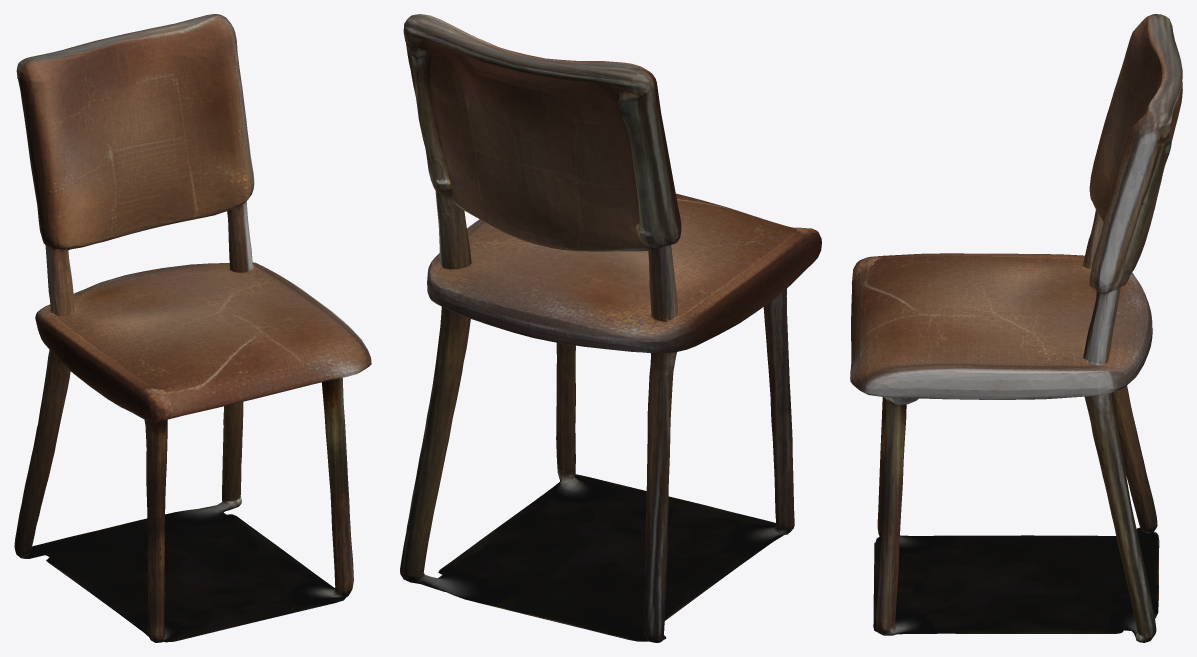
The model's file is broken_chair_245985_20251230_114657_20251230_120042.glb.
3 renders of one model, left to right at view 1: azimuth 30°, elevation 25°; view 2: azimuth 150°, elevation 25°; view 3: azimuth 270°, elevation 25°, orthographic. The views are drawn at different scales.
Parts seen in each view (by area): view 1: world; view 2: world; view 3: world.
Boxes of the visible parts, x1,y1,x2,y2 form: world: (14,14,371,642); world: (400,14,821,642); world: (850,14,1182,642).
Size of the model in its own units: 0.5007 by 1 by 0.5777.
Materials: 1 (1 with a texture image).
